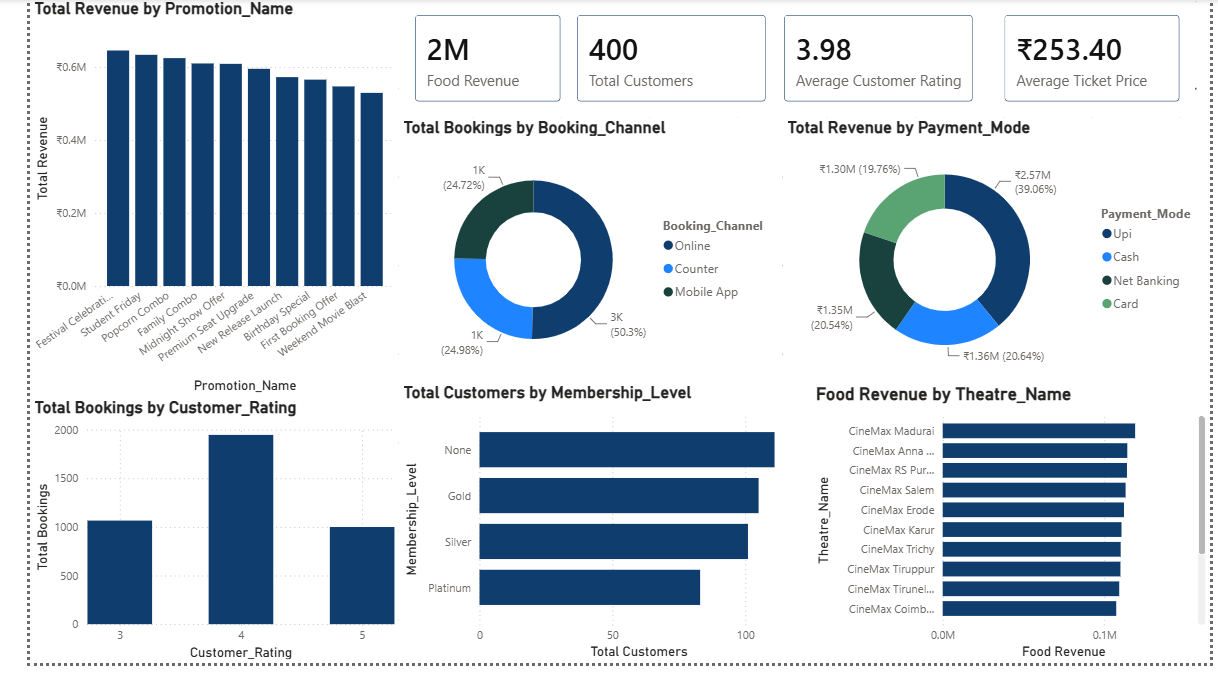

The dashboard page shown, as its layout file describes it:
{"tool":"powerbi","page":{"name":"Customer Performance Analysis","canvas":[1280,720],"ordinal":3},"visuals":[{"type":"cardVisual","fields":{"Data":["Fact_Ticket_Sales.Food Revenue"]},"box":[400,0,192,128],"z":0},{"type":"cardVisual","fields":{"Data":["Dim_Category.Total Customers"]},"box":[576,0,240,128],"z":1000},{"type":"cardVisual","fields":{"Data":["Dim_Category.Average Customer Rating"]},"box":[800,0,240,128],"z":2000},{"type":"cardVisual","fields":{"Data":["Dim_Category.Average Ticket Price"]},"box":[1040,0,224,128],"z":3000},{"type":"clusteredColumnChart","fields":{"Y":["Fact_Ticket_Sales.Total Revenue"],"Category":["Dim_Promotion.Promotion_Name"]},"box":[0,0,400,432],"z":4000},{"type":"donutChart","fields":{"Category":["Fact_Ticket_Sales.Booking_Channel"],"Y":["Dim_Category.Total Bookings"]},"box":[400,128,416,288],"z":5000},{"type":"donutChart","fields":{"Y":["Fact_Ticket_Sales.Total Revenue"],"Category":["Fact_Ticket_Sales.Payment_Mode"]},"box":[816,128,464,288],"z":6000},{"type":"barChart","fields":{"Y":["Dim_Category.Total Customers"],"Category":["Dim_Customer.Membership_Level"]},"box":[400,416,448,304],"z":7000},{"type":"clusteredBarChart","fields":{"Y":["Fact_Ticket_Sales.Food Revenue"],"Category":["Dim_Theatre.Theatre_Name"]},"box":[848,416,432,304],"z":8000},{"type":"columnChart","fields":{"Y":["Dim_Category.Total Bookings"],"Category":["Fact_Ticket_Sales.Customer_Rating"]},"box":[0,432,400,288],"z":9000}]}

Visuals, with their boxes in screenshot pixels (x1, y1, x2, y2), scaled from the page's 1280x720 canvas onto the 1218x673 screenshot:
cardVisual - Fact_Ticket_Sales.Food Revenue: 381 0 563 120
cardVisual - Dim_Category.Total Customers: 548 0 776 120
cardVisual - Dim_Category.Average Customer Rating: 761 0 990 120
cardVisual - Dim_Category.Average Ticket Price: 990 0 1203 120
clusteredColumnChart - Fact_Ticket_Sales.Total Revenue x Dim_Promotion.Promotion_Name: 0 0 381 404
donutChart - Fact_Ticket_Sales.Booking_Channel x Dim_Category.Total Bookings: 381 120 776 389
donutChart - Fact_Ticket_Sales.Total Revenue x Fact_Ticket_Sales.Payment_Mode: 776 120 1217 389
barChart - Dim_Category.Total Customers x Dim_Customer.Membership_Level: 381 389 807 672
clusteredBarChart - Fact_Ticket_Sales.Food Revenue x Dim_Theatre.Theatre_Name: 807 389 1217 672
columnChart - Dim_Category.Total Bookings x Fact_Ticket_Sales.Customer_Rating: 0 404 381 672
